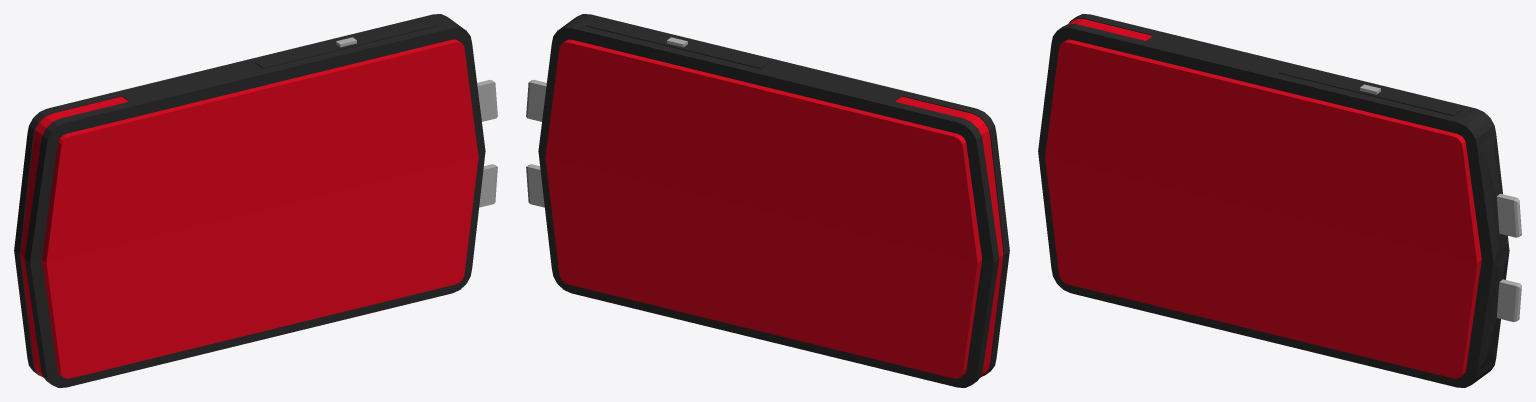
Rendered from keycard.fbx.
3 views of the same model, side by side, from view 1: azimuth 30°, elevation 25°; view 2: azimuth 150°, elevation 25°; view 3: azimuth 330°, elevation 25° (orthographic).
Parts seen in each view (by area): view 1: KeyCardColor; view 2: KeyCardColor; view 3: KeyCardColor.
Boxes of the visible parts, box(x1,y1,x2,y2) form: KeyCardColor: box(14, 14, 497, 387); KeyCardColor: box(526, 14, 1009, 387); KeyCardColor: box(1038, 14, 1521, 387).
Size of the model in its own units: 98.85 by 54.26 by 9.4.
